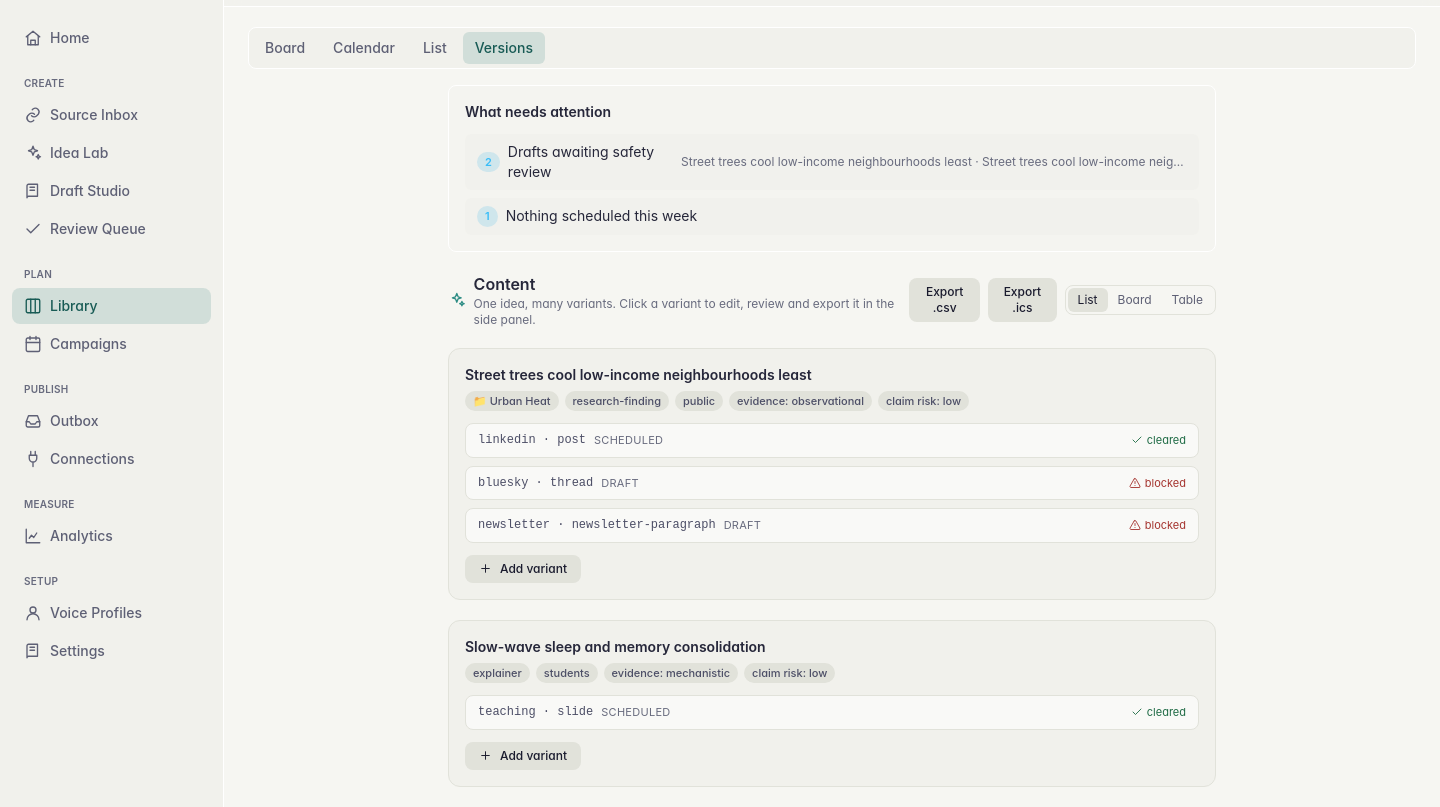
Test: Content view + editor drawer › adds a new channel variant and opens it in the drawer
(page scrolled)
Click the button "Add variant" below "explainer". click: (523, 756)
box: [465,742,581,770]
(page scrolled)
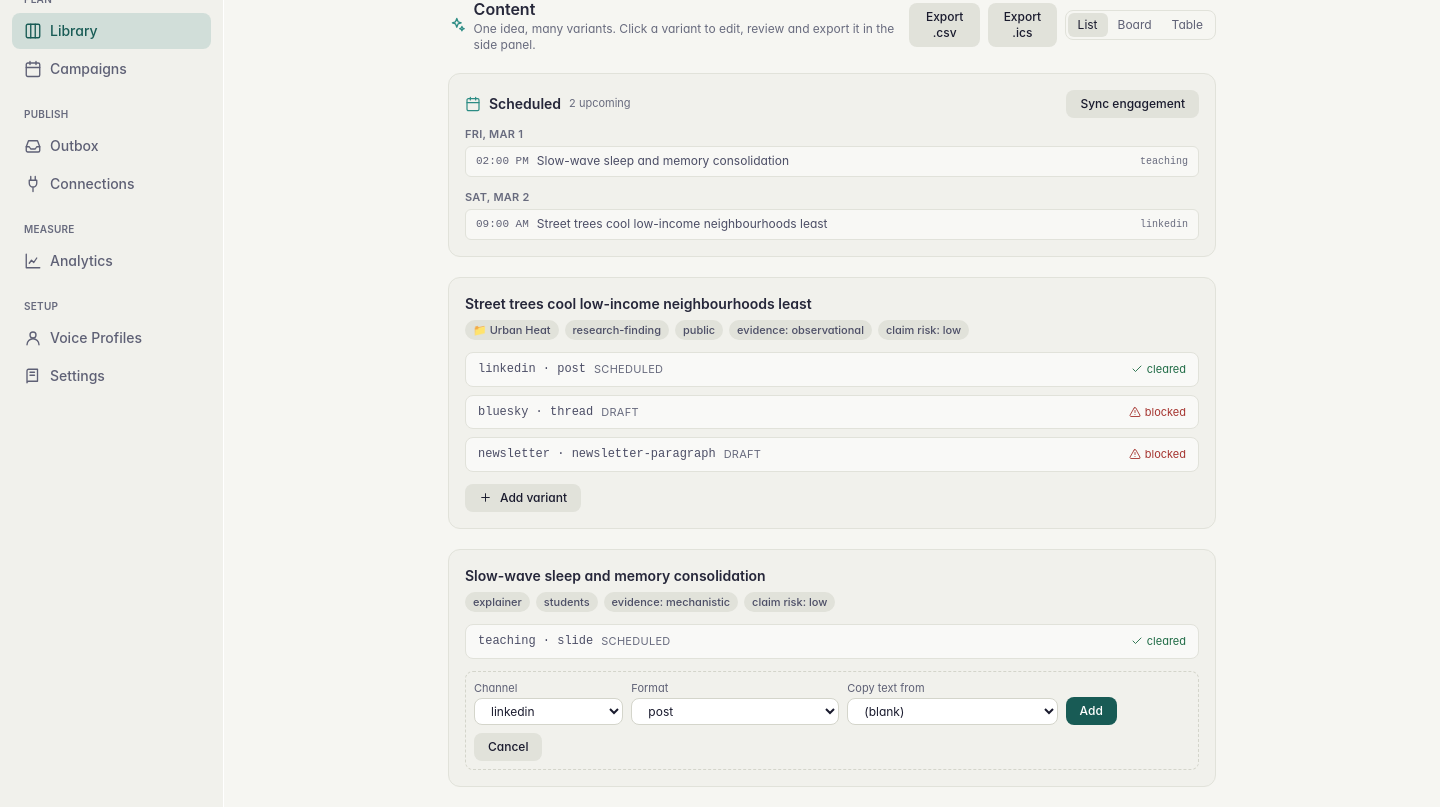
Select "bluesky" in the dropdown labelled "Channel". click: (549, 712)
box: [474,698,623,725]
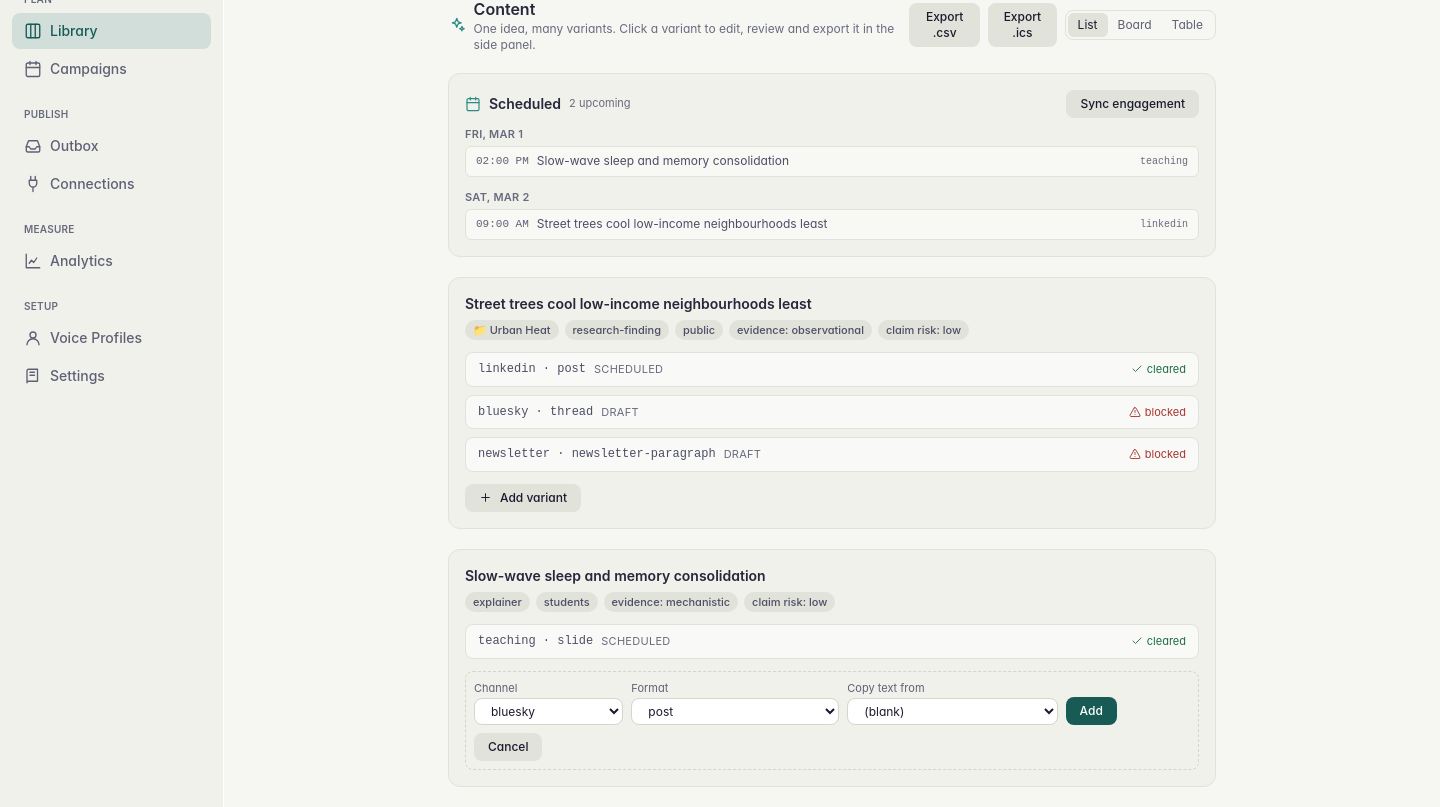
Select "thread" in the dropdown labelled "Format". click: (735, 712)
box: [631,698,839,725]
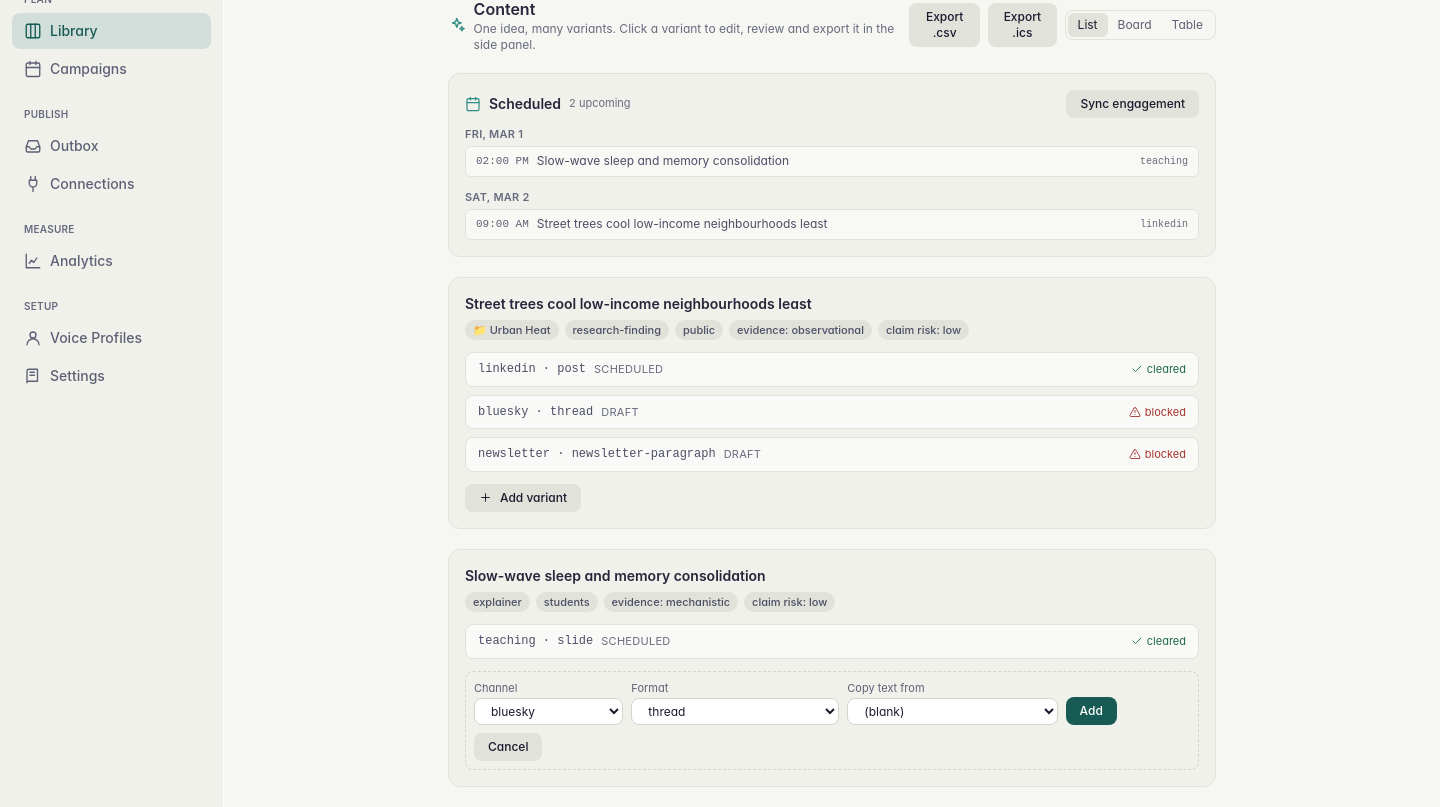
Click the button "Add". click: (1091, 711)
box: [1066,697,1117,725]
(page scrolled)
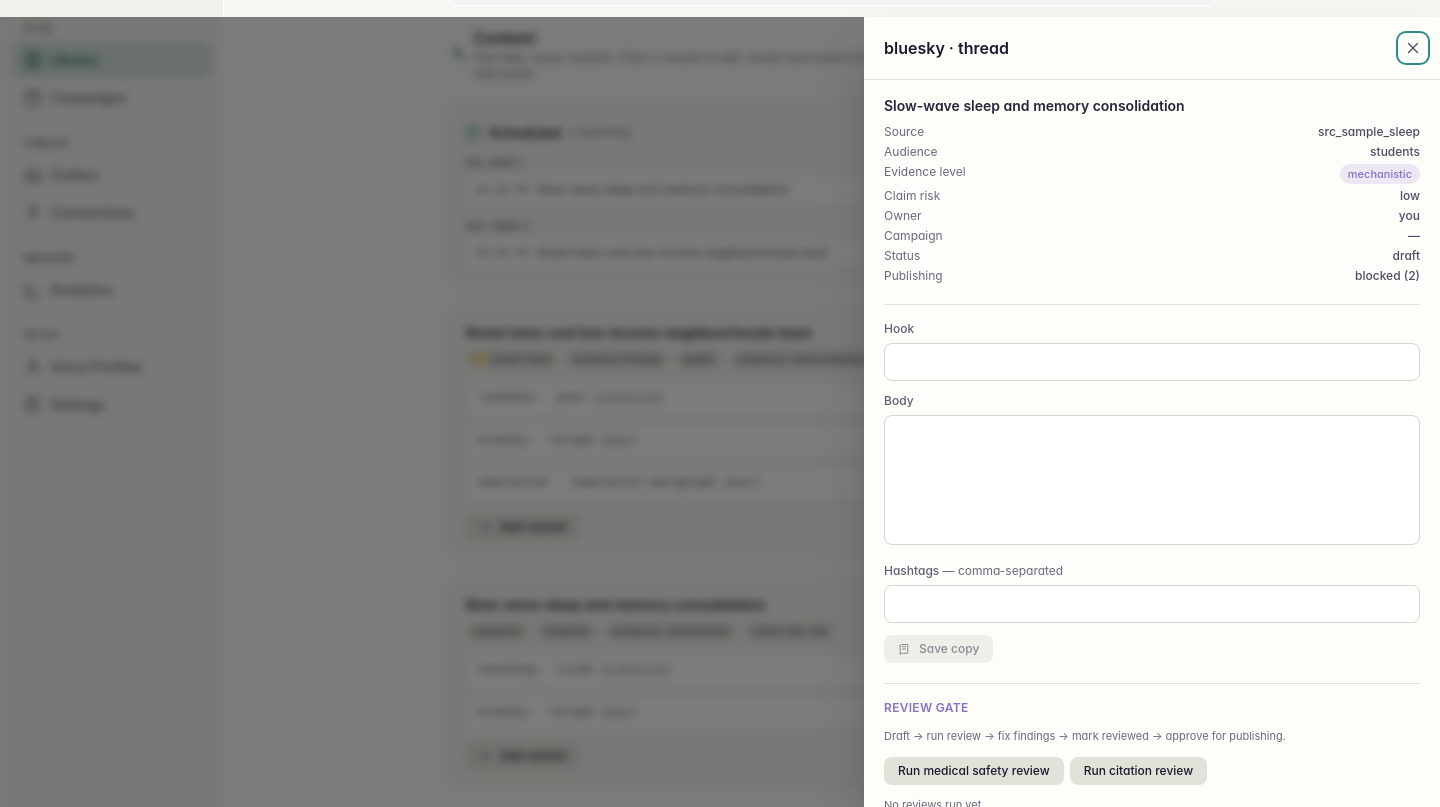
Expected: the dialog "bluesky · thread" is shown, [864,17,1439,806]
